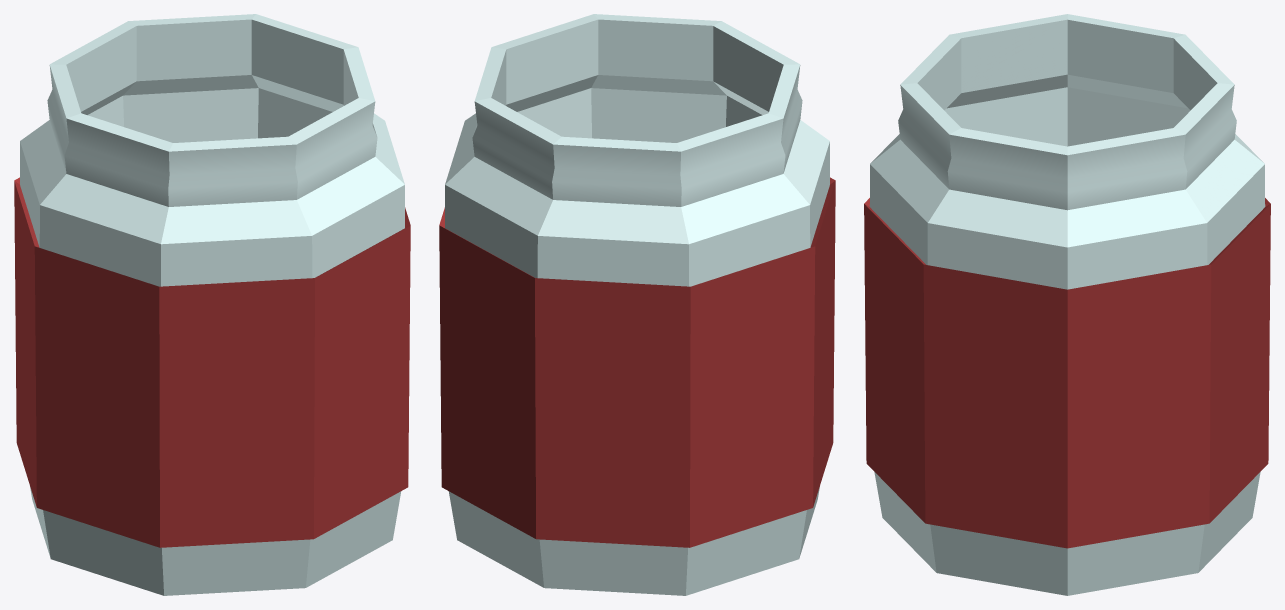
File: Open_empty_jar.fbx
The picture shows the model from 3 angles, left to right: view 1: azimuth 30°, elevation 25°; view 2: azimuth 150°, elevation 25°; view 3: azimuth 270°, elevation 25°; orthographic projection.
Visible parts, largest first — view 1: Open_empty_Jar; view 2: Open_empty_Jar; view 3: Open_empty_Jar.
Part boxes in pixels (bbox=[...]): Open_empty_Jar: bbox=[14, 14, 410, 595]; Open_empty_Jar: bbox=[439, 14, 835, 595]; Open_empty_Jar: bbox=[864, 14, 1270, 595].
Bounding box in the file's own units: 2 × 2.36 × 2.
